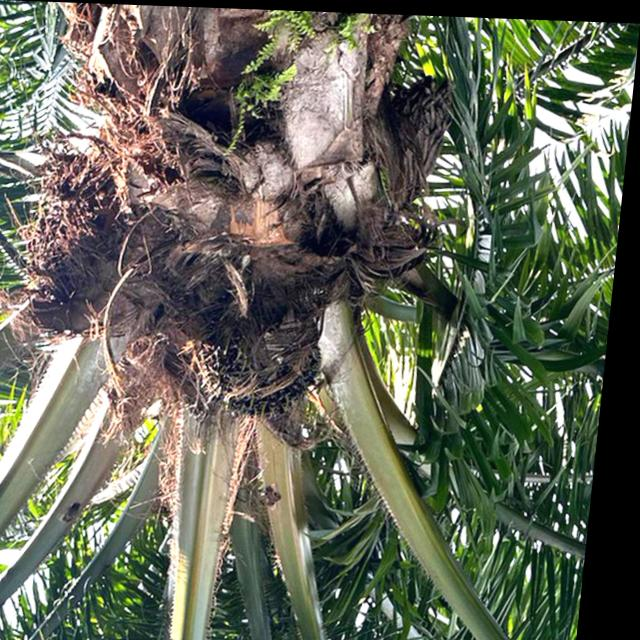ripe: (195, 298, 340, 439)
